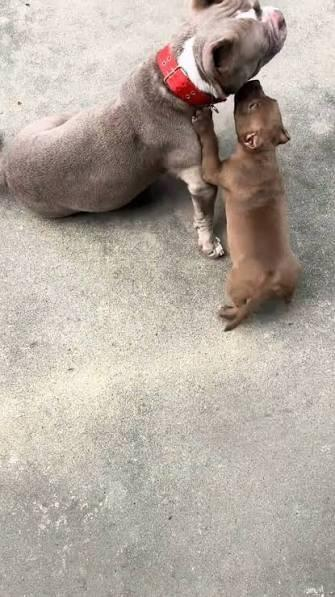adult_dog: (0, 0, 289, 260)
puppy-dog: (190, 78, 304, 333)
